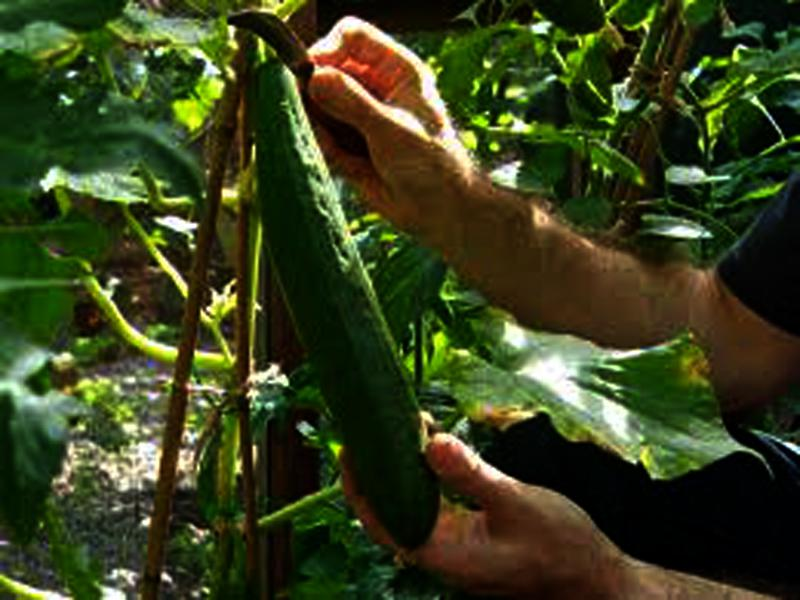Cucumber: (249, 62, 437, 547)
